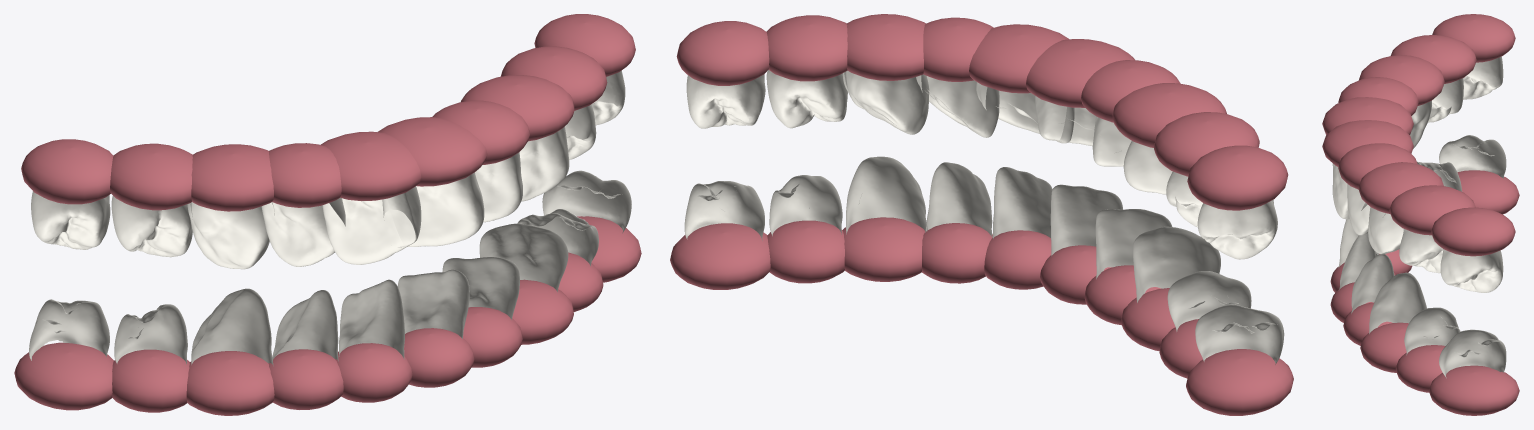
The model's file is gc-design-dental-arch.glb.
The picture shows the model from 3 angles, left to right: view 1: azimuth 30°, elevation 25°; view 2: azimuth 150°, elevation 25°; view 3: azimuth 270°, elevation 25°; orthographic projection. The views are drawn at different scales.
Visible parts, largest first — view 1: gingiva_45, gingiva_13, gingiva_11, gingiva_15, gingiva_43, gingiva_14, tooth_11, gingiva_21, tooth_21, gingiva_44, gingiva_12, tooth_43 (+28 smaller); view 2: gingiva_45, gingiva_35, gingiva_15, gingiva_25, gingiva_23, gingiva_24, gingiva_33, tooth_33, gingiva_34, gingiva_11, gingiva_21, tooth_43 (+28 smaller); view 3: gingiva_35, gingiva_25, gingiva_24, gingiva_15, gingiva_23, gingiva_14, gingiva_21, gingiva_13, tooth_35, tooth_25, tooth_33, gingiva_11 (+22 smaller).
Boxes of the visible parts, <box> form: gingiva_45: <box>14,342,113,410</box>; gingiva_13: <box>191,144,273,211</box>; gingiva_11: <box>320,131,421,201</box>; gingiva_15: <box>21,139,113,204</box>; gingiva_43: <box>186,351,274,415</box>; gingiva_14: <box>110,143,192,210</box>; tooth_11: <box>322,186,421,264</box>; gingiva_21: <box>377,117,487,186</box>; tooth_21: <box>382,172,484,247</box>; gingiva_44: <box>112,349,189,412</box>; gingiva_12: <box>269,143,341,207</box>; tooth_43: <box>191,288,273,366</box>; gingiva_45: <box>1186,349,1293,415</box>; gingiva_35: <box>670,223,770,289</box>; gingiva_15: <box>1187,145,1288,210</box>; gingiva_25: <box>676,21,769,85</box>; gingiva_23: <box>846,14,925,80</box>; gingiva_24: <box>766,15,847,81</box>; gingiva_33: <box>842,217,925,281</box>; tooth_33: <box>846,156,927,234</box>; gingiva_34: <box>767,220,844,283</box>; gingiva_11: <box>1026,39,1134,107</box>; gingiva_21: <box>969,24,1068,93</box>; tooth_43: <box>1133,226,1220,302</box>; gingiva_35: <box>1429,365,1519,415</box>; gingiva_25: <box>1431,207,1515,256</box>; gingiva_24: <box>1389,185,1475,235</box>; gingiva_15: <box>1432,14,1515,62</box>; gingiva_23: <box>1358,162,1443,213</box>; gingiva_14: <box>1390,35,1476,83</box>; gingiva_21: <box>1322,120,1413,166</box>; gingiva_13: <box>1359,55,1444,105</box>; tooth_35: <box>1439,329,1506,378</box>; tooth_25: <box>1440,249,1503,292</box>; tooth_33: <box>1369,272,1426,333</box>; gingiva_11: <box>1322,97,1413,134</box>.
Bounding box in the file's own units: 53.75 × 21.2 × 19.5.
